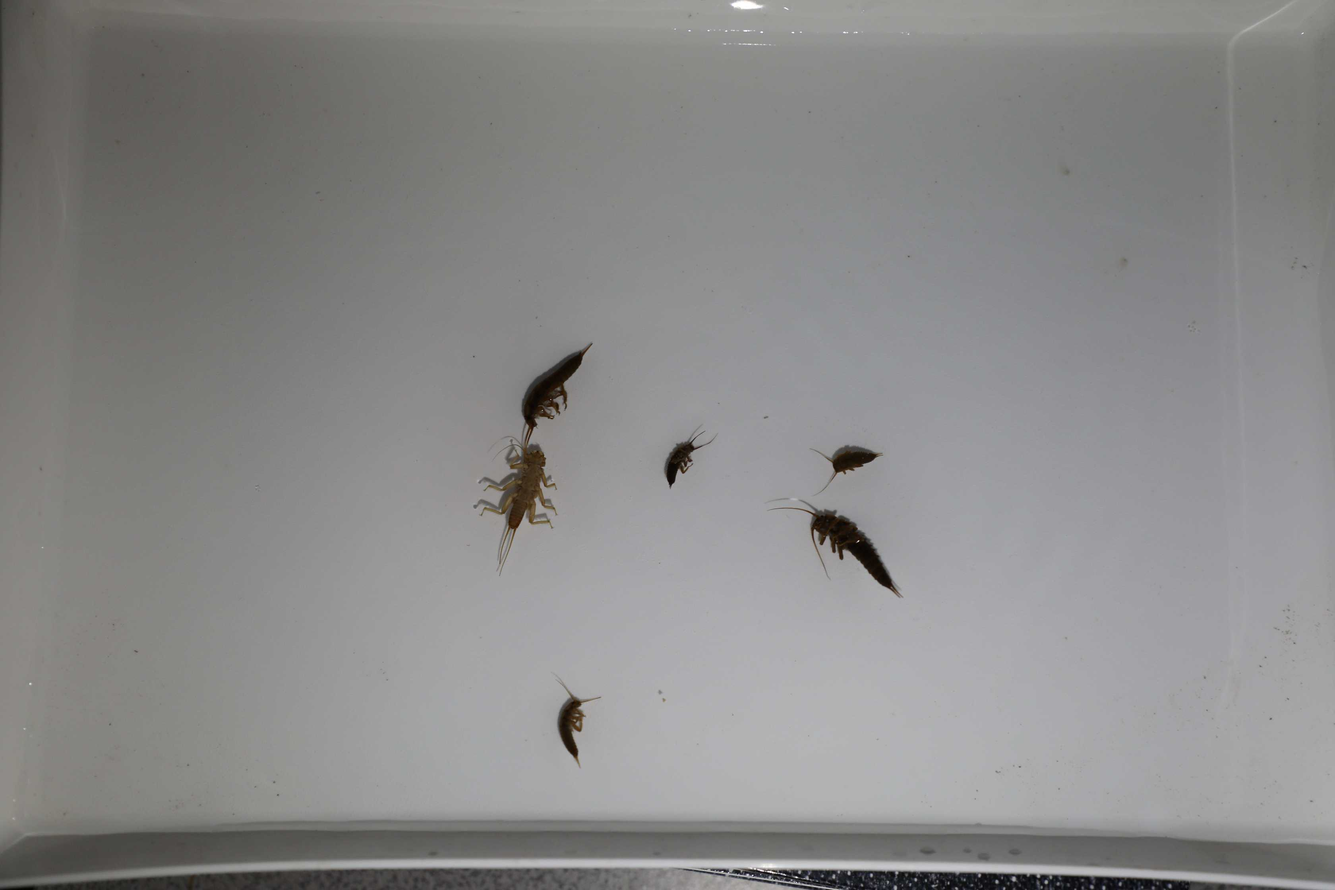Stonefly: (778, 499, 900, 601), (477, 433, 548, 566), (522, 343, 596, 434), (552, 674, 603, 766), (798, 441, 880, 492), (657, 429, 713, 494)
